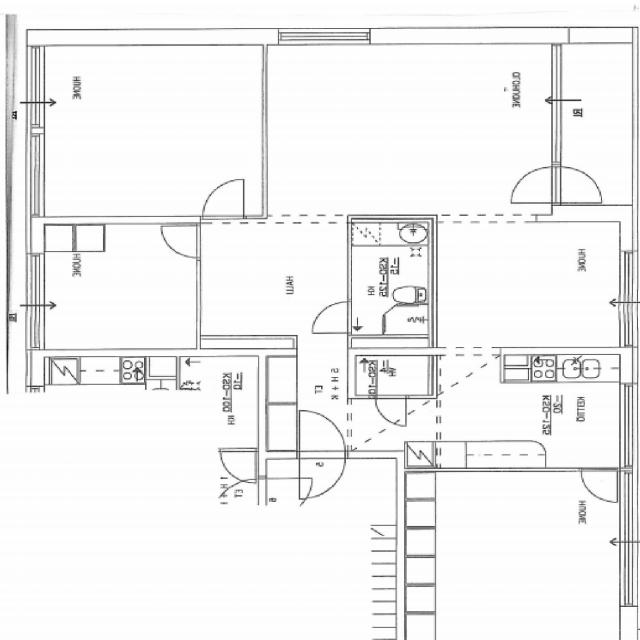door: (300, 451, 346, 499), (300, 411, 346, 458), (511, 166, 561, 203), (552, 166, 602, 203), (203, 180, 244, 220), (582, 468, 618, 504), (161, 225, 201, 257), (314, 302, 352, 333), (377, 395, 406, 424)
